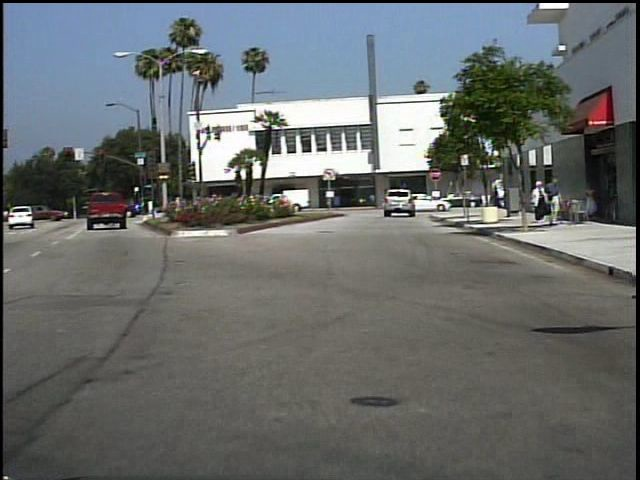person: (544, 175, 564, 231), (485, 182, 508, 215), (581, 180, 597, 223), (532, 180, 547, 223), (370, 189, 391, 217)
